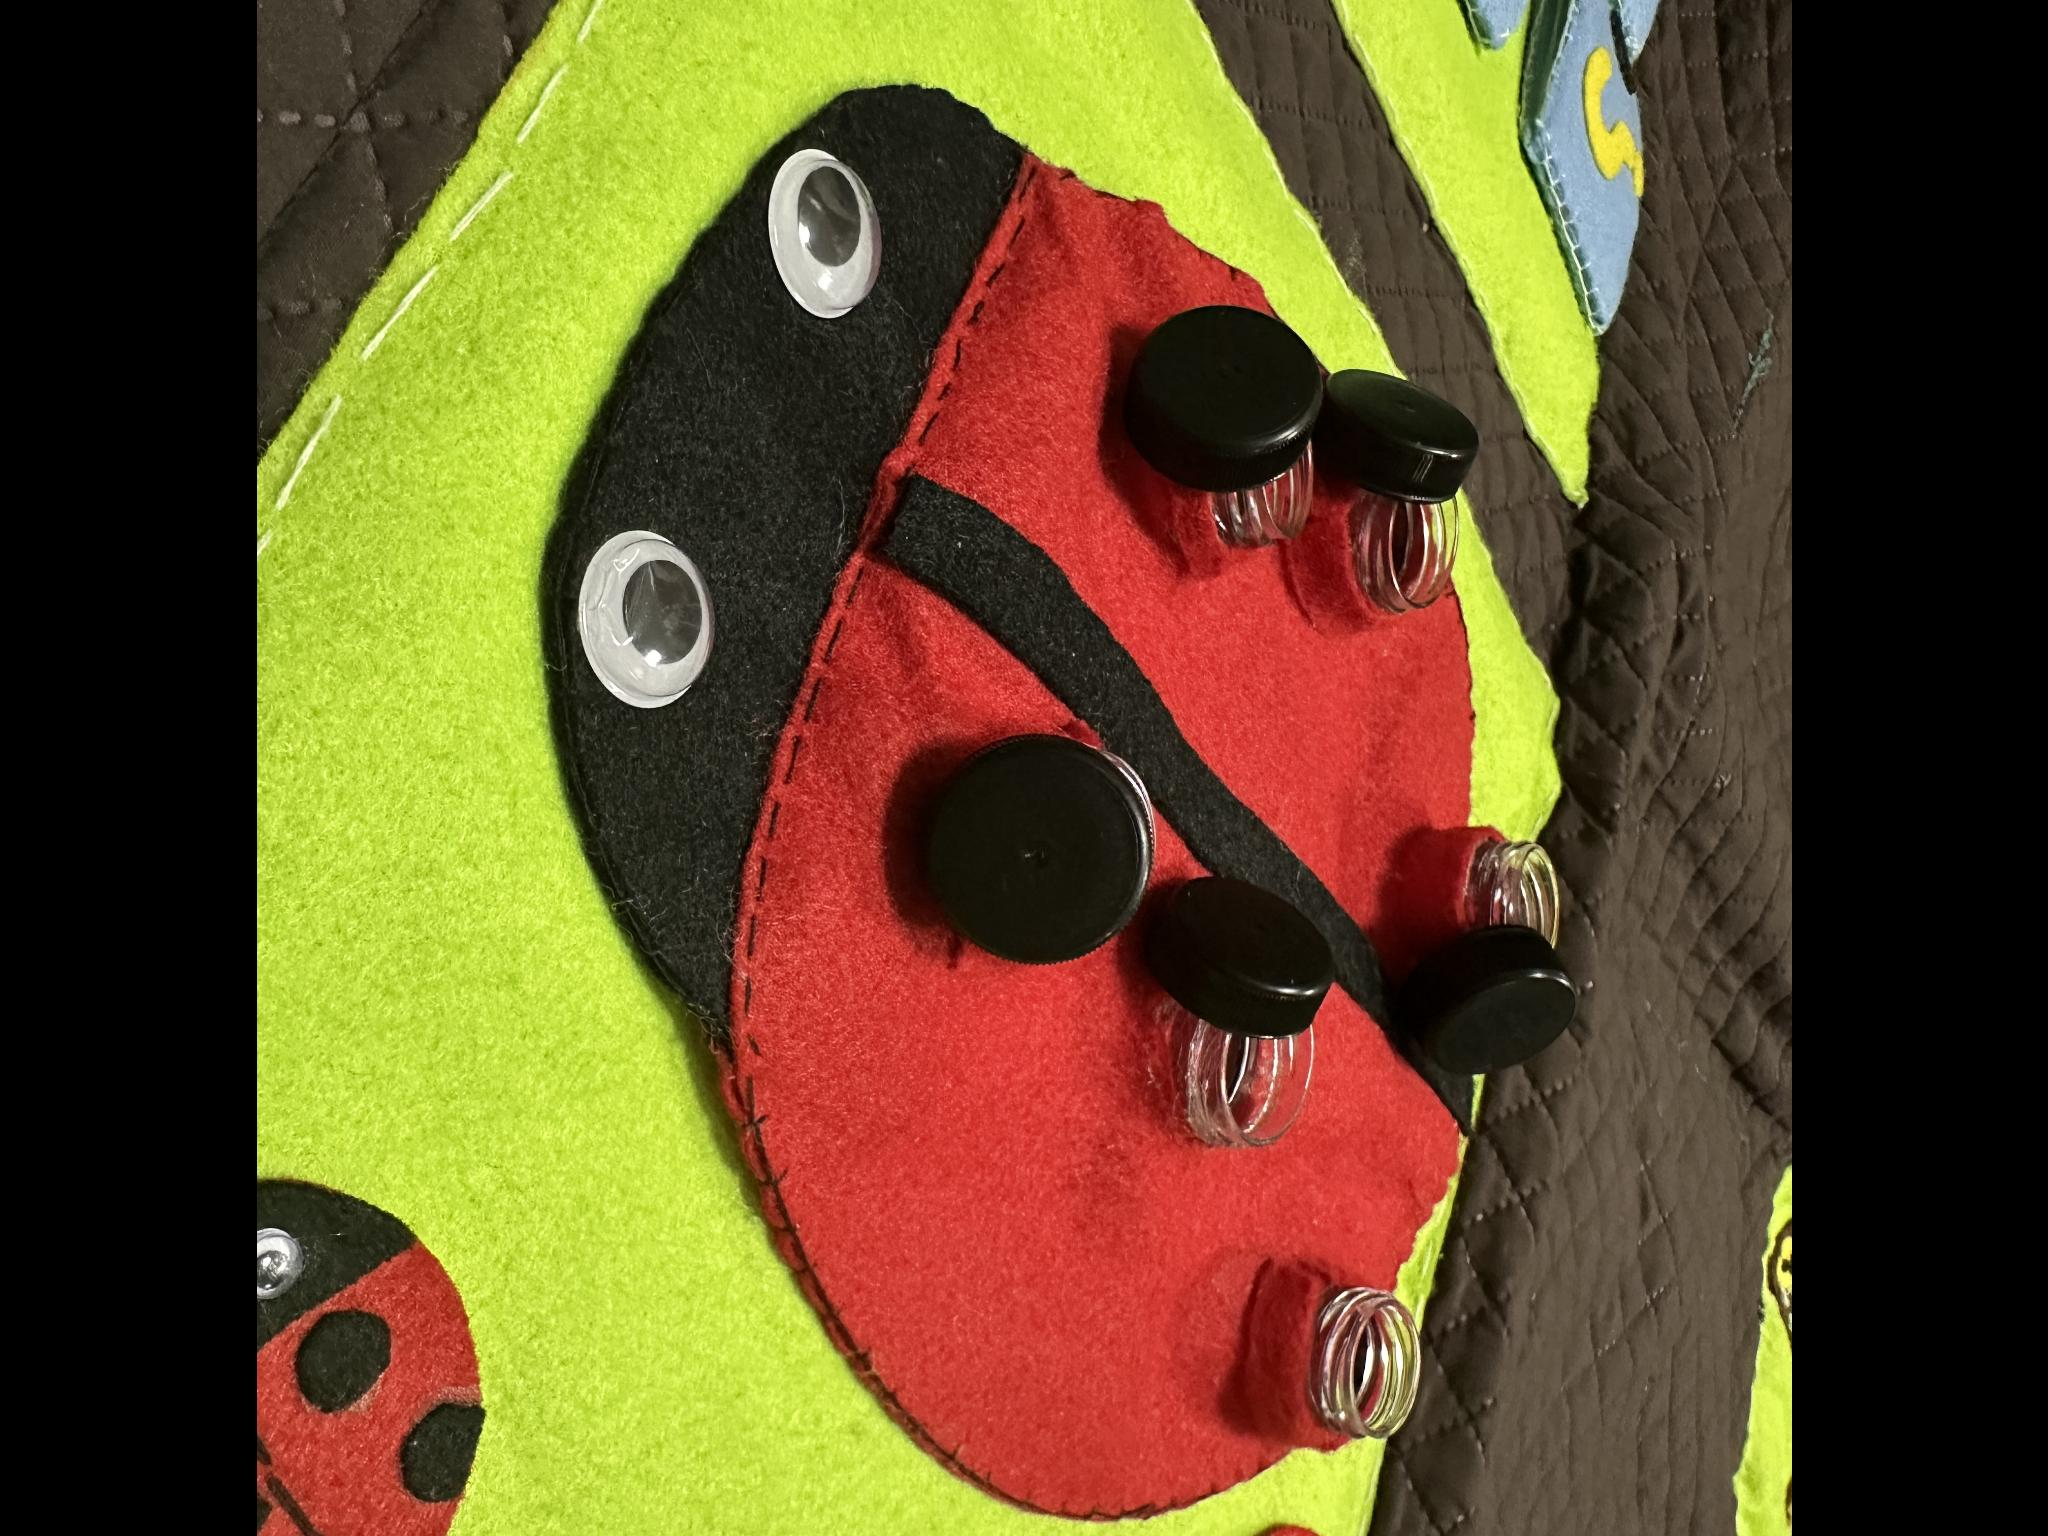cap_ng: (1074, 273, 1343, 574), (903, 702, 1169, 1002), (1290, 339, 1506, 676), (1369, 768, 1585, 1094), (1148, 860, 1347, 1175)
